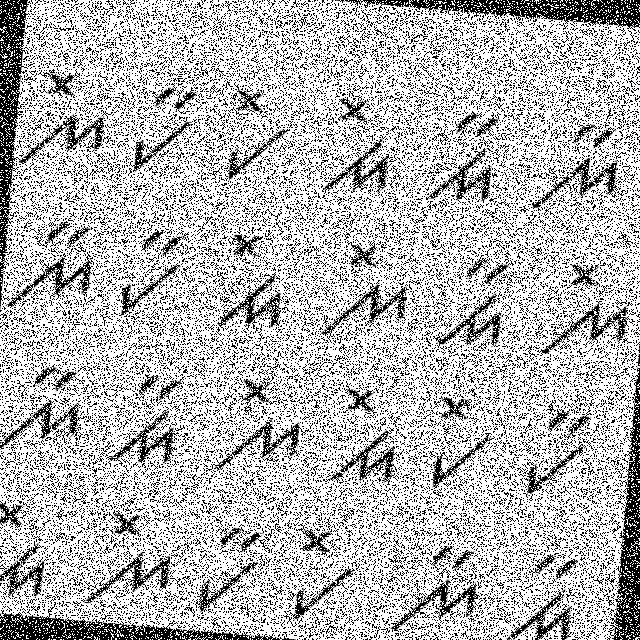dan: (428, 240, 522, 362), (100, 362, 194, 478), (419, 105, 508, 218), (499, 544, 597, 639)
do: (322, 378, 405, 498), (320, 87, 404, 205), (210, 223, 292, 334), (0, 496, 59, 605)
nan: (381, 524, 490, 639), (526, 111, 634, 226), (2, 212, 100, 320), (0, 352, 86, 467)
no: (68, 500, 182, 620), (532, 246, 636, 374), (206, 369, 312, 490), (311, 230, 415, 349), (15, 64, 115, 178)
pan: (112, 215, 196, 326), (121, 75, 202, 182), (190, 515, 270, 621), (523, 400, 597, 506)
po: (416, 380, 503, 499), (277, 519, 364, 626), (217, 82, 297, 194)
